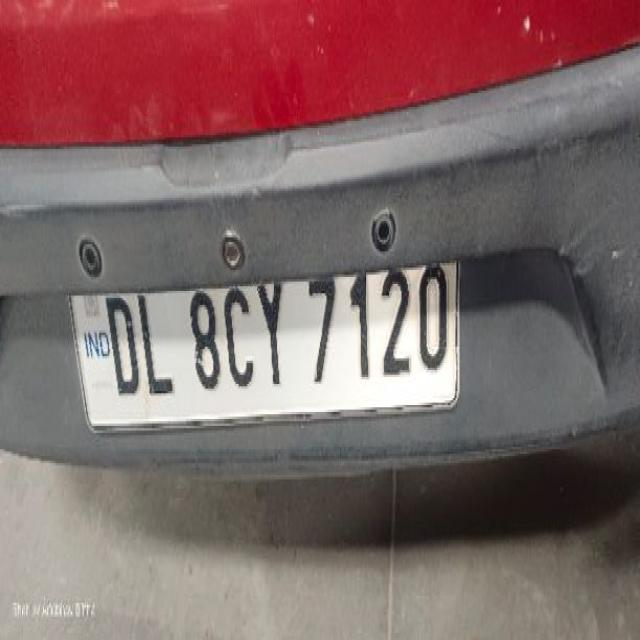license_plate: (1, 2, 638, 486), (68, 256, 461, 433)
